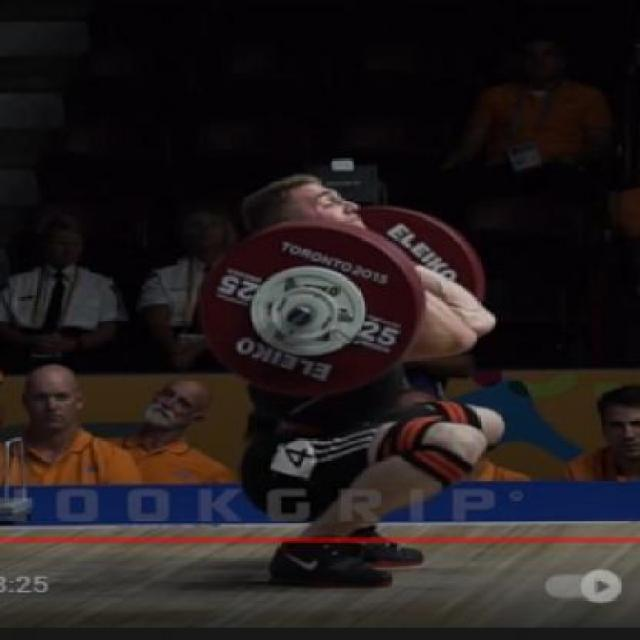Barbell: (284, 304, 314, 330)
